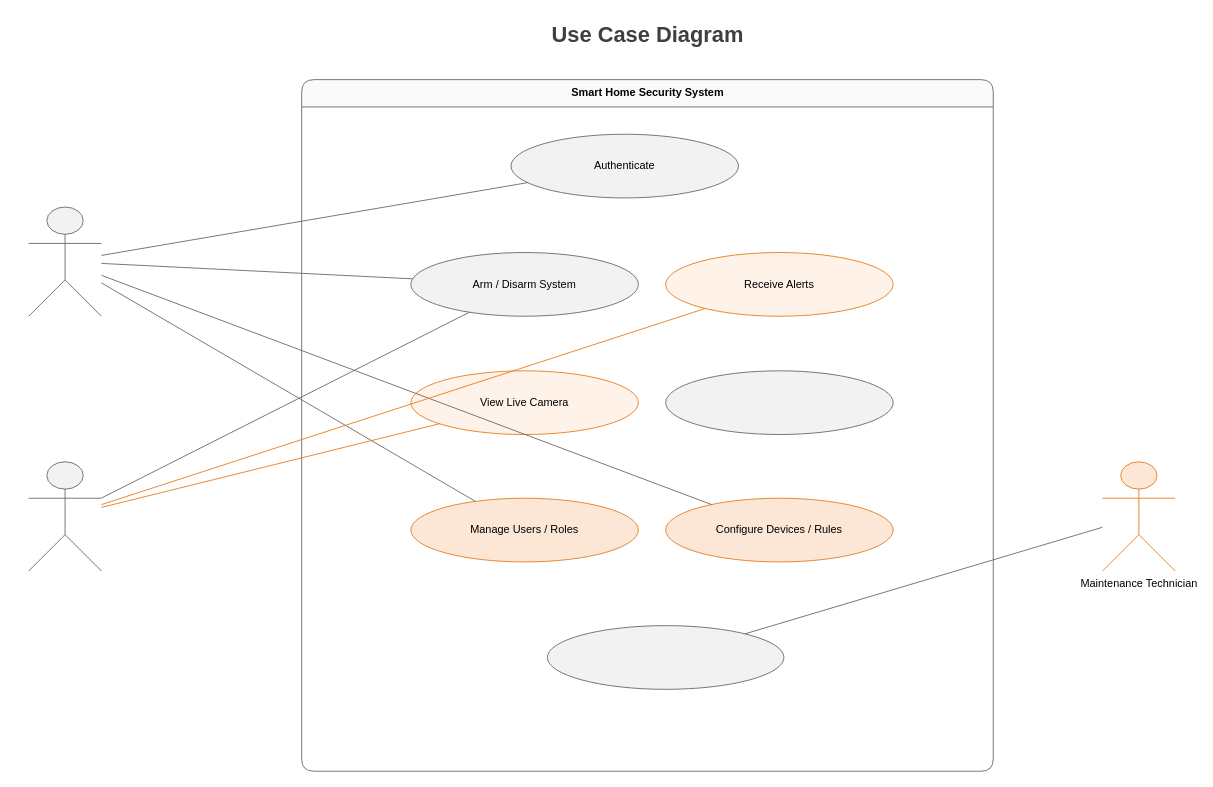
This 1213x787 diagram has some shape labels left out. The shapes that lost their labels are listed below. From the top down, each one's centre as x and y in pixels, then its label:
At (x=64, y=261): "Homeowner / Admin".
At (x=779, y=402): "Review Events / Logs".
At (x=64, y=516): "Resident".
At (x=665, y=657): "Diagnose / Replace Device".
